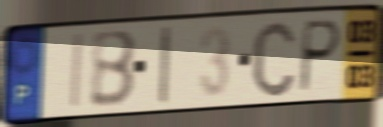3: (198, 24, 234, 101)
B: (90, 27, 139, 110)
C: (250, 17, 298, 100)
I: (68, 31, 86, 112), (157, 24, 173, 109)
P: (296, 17, 345, 96)
